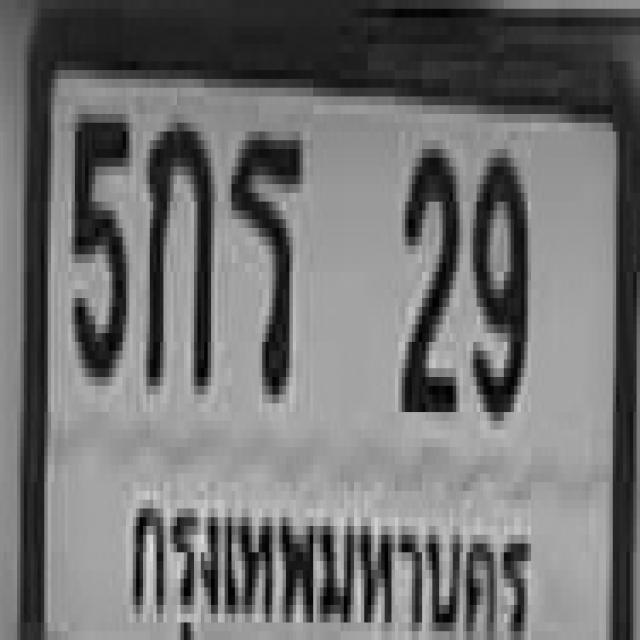10GorGai: (142, 110, 210, 382)
2: (398, 140, 456, 404)
44RorRuea: (228, 118, 300, 390)
5: (68, 100, 126, 372)
9: (470, 144, 524, 408)
Bangkok: (121, 470, 538, 640)
